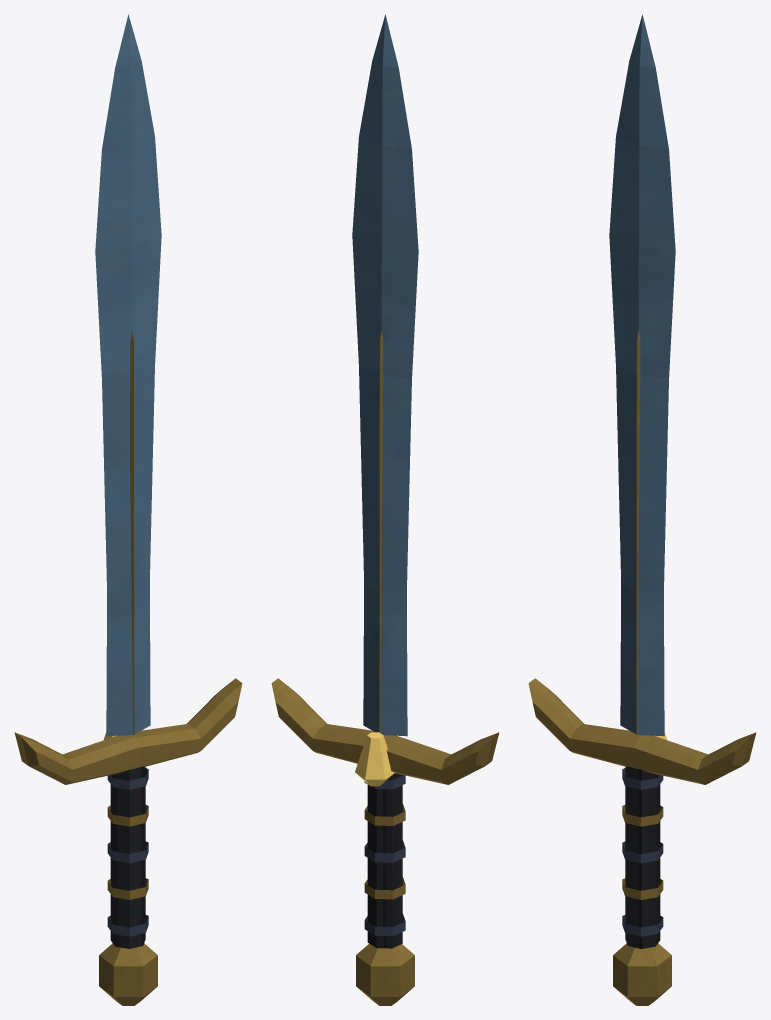
The model's file is wpn_sword_rare.glb.
The picture shows the model from 3 angles, left to right: view 1: azimuth 30°, elevation 25°; view 2: azimuth 150°, elevation 25°; view 3: azimuth 330°, elevation 25°; orthographic projection.
Visible parts, largest first — view 1: wpn_sword_rare; view 2: wpn_sword_rare; view 3: wpn_sword_rare.
Boxes of the visible parts, <box> form: wpn_sword_rare: <box>14,14,242,1005</box>; wpn_sword_rare: <box>271,14,499,1005</box>; wpn_sword_rare: <box>528,14,756,1005</box>.
Size of the model in its own units: 0.2999 by 1.28 by 0.0828.
5 materials, 4 textured.
